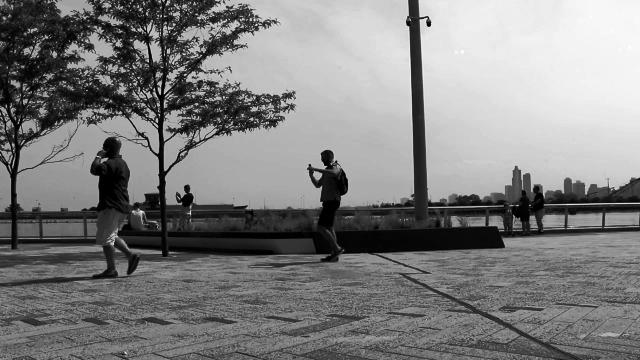berjalan: (83, 134, 141, 284), (302, 143, 352, 267)
